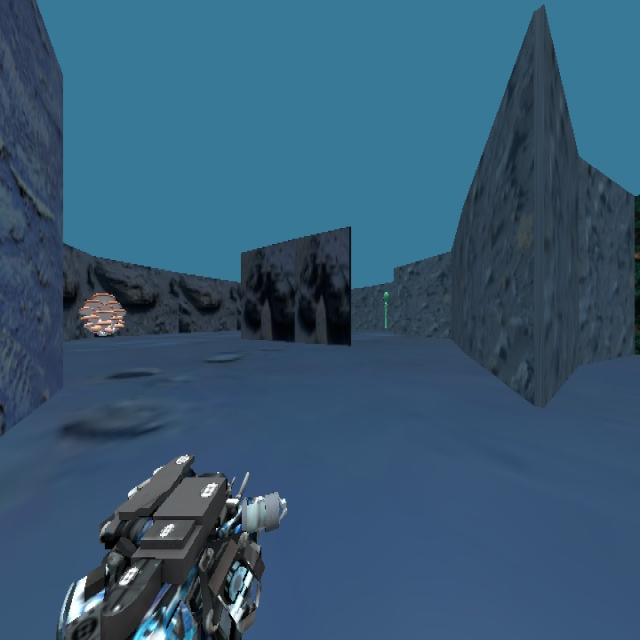Alien: (382, 290, 389, 330)
Mushroom: (77, 291, 126, 337)
